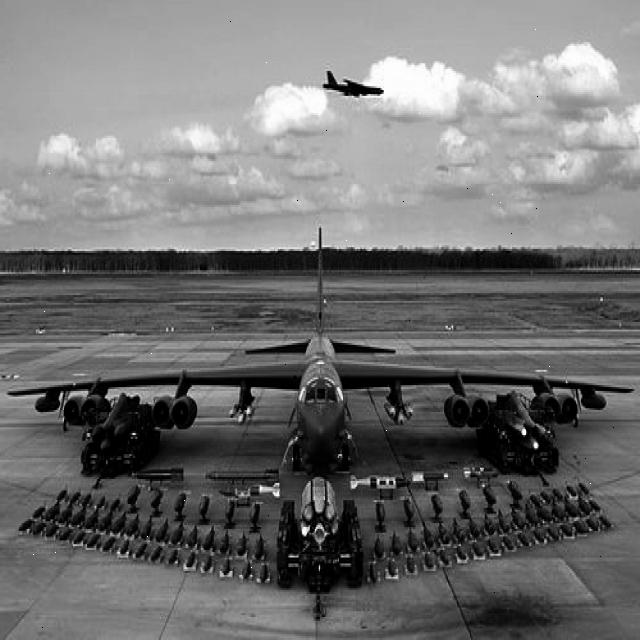B52: (0, 206, 634, 634), (308, 57, 402, 117)
